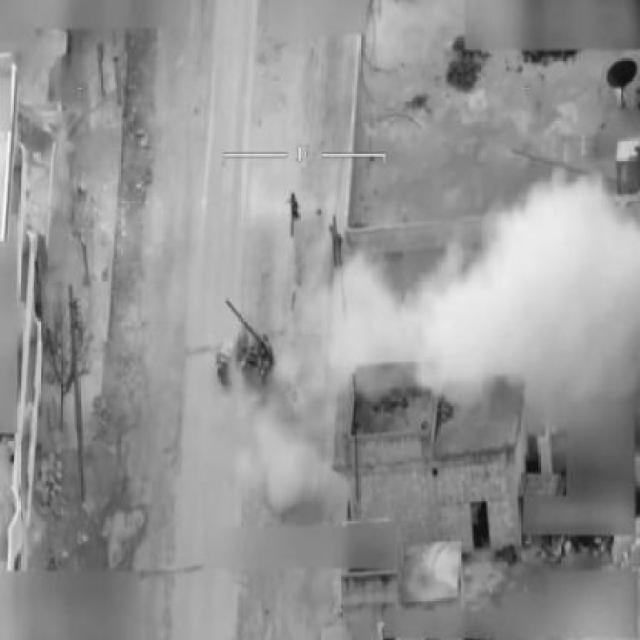Person: (286, 188, 303, 237)
Vehicle: (214, 322, 277, 399)
